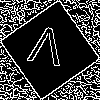V: (25, 25, 66, 76)
